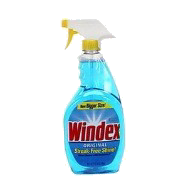grozi_26: (60, 18, 124, 174)
